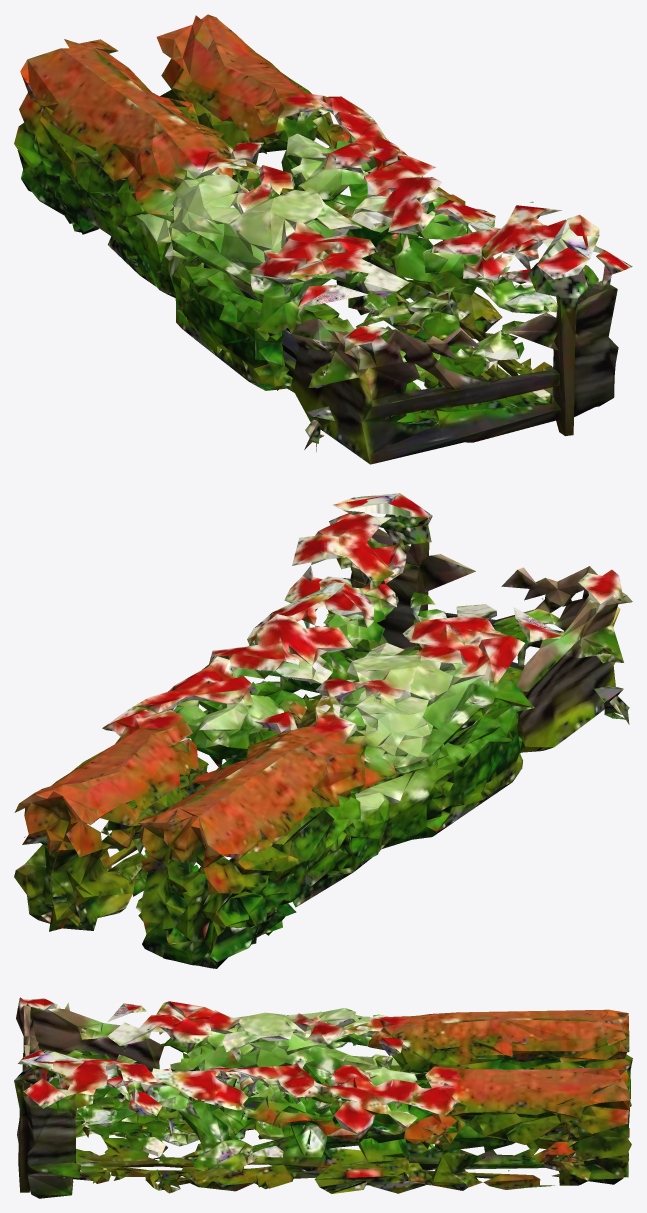
The model's file is nature_flowers_02.glb.
3 views of the same model, one above another, from view 1: azimuth 30°, elevation 25°; view 2: azimuth 150°, elevation 25°; view 3: azimuth 270°, elevation 25° (orthographic). The views are drawn at different scales.
Visible parts, largest first — view 1: geometry_0; view 2: geometry_0; view 3: geometry_0.
Part boxes in pixels (left/top/right/bottom): geometry_0: left=14, top=14, right=632, bottom=464; geometry_0: left=14, top=493, right=632, bottom=968; geometry_0: left=14, top=997, right=632, bottom=1198.
Size of the model in its own units: 0.4734 by 0.2617 by 0.9995.
Materials: 1 (1 with a texture image).
